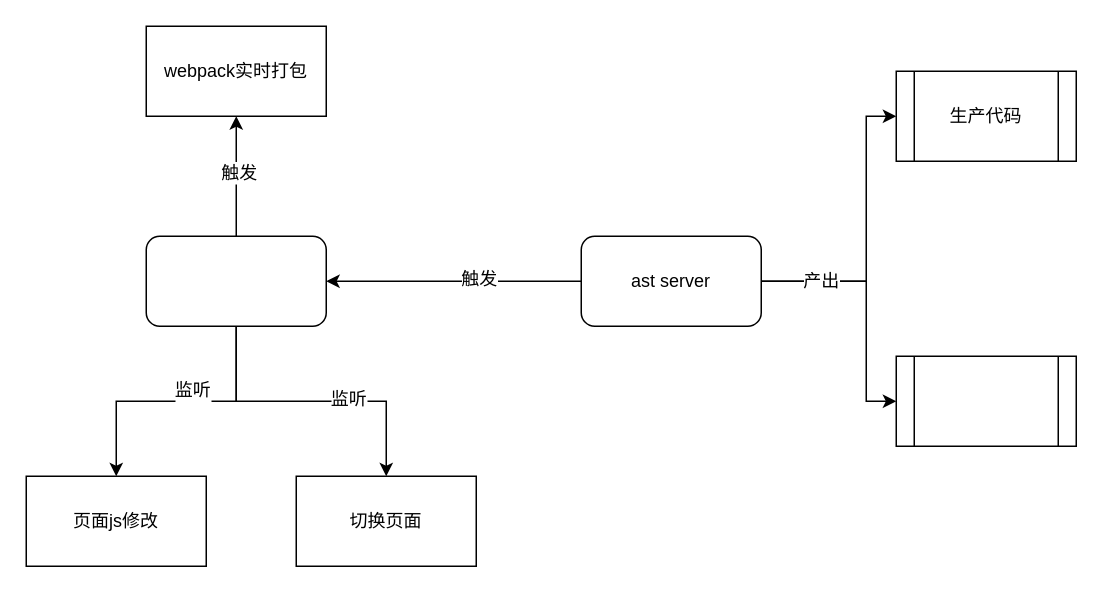
The diagram is 1103 pixels wide and 593 high, and some of its shapes have lost their labels. Here are the shapes that lost their labels. From the top down, the centre of each, then its label:
the point at 235,280: editor server
the point at 985,400: 调试代码
